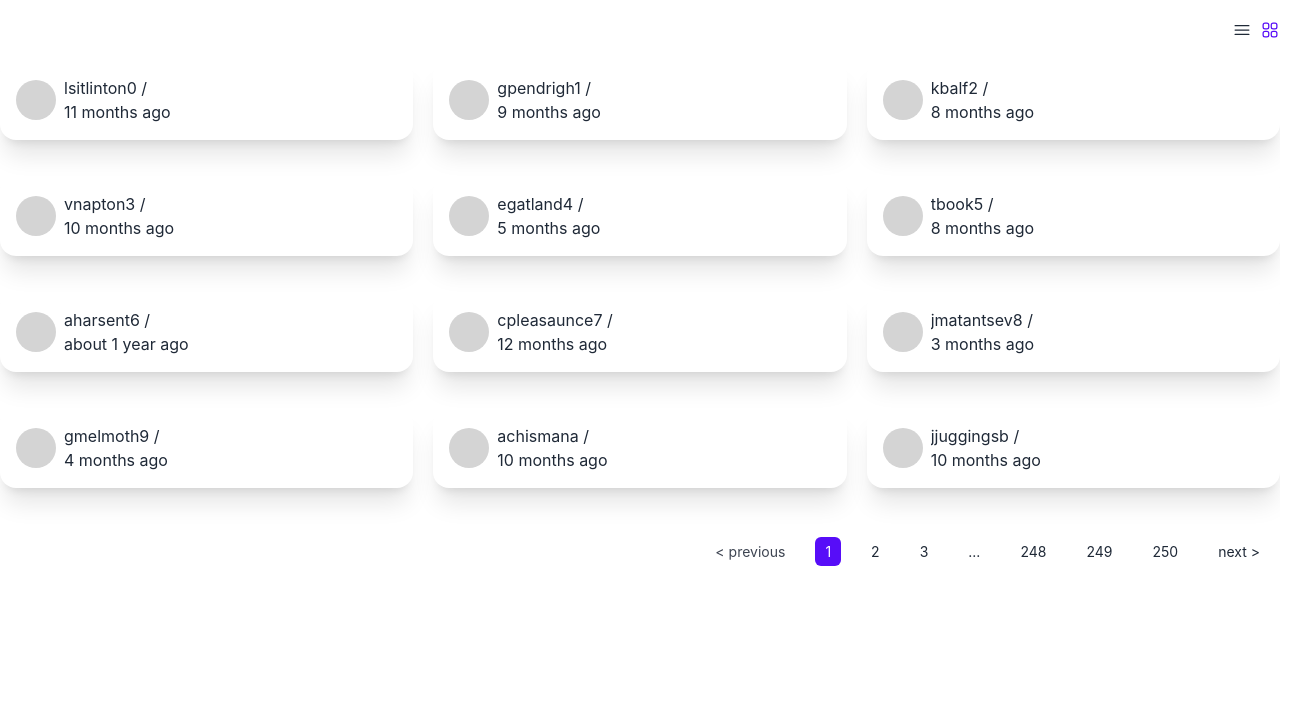
Gist View Component › clicking on the list icon changes the view to list
Click the icon with test id "list-icon": (1242, 30) [1232,20,1252,40]
(page scrolled)
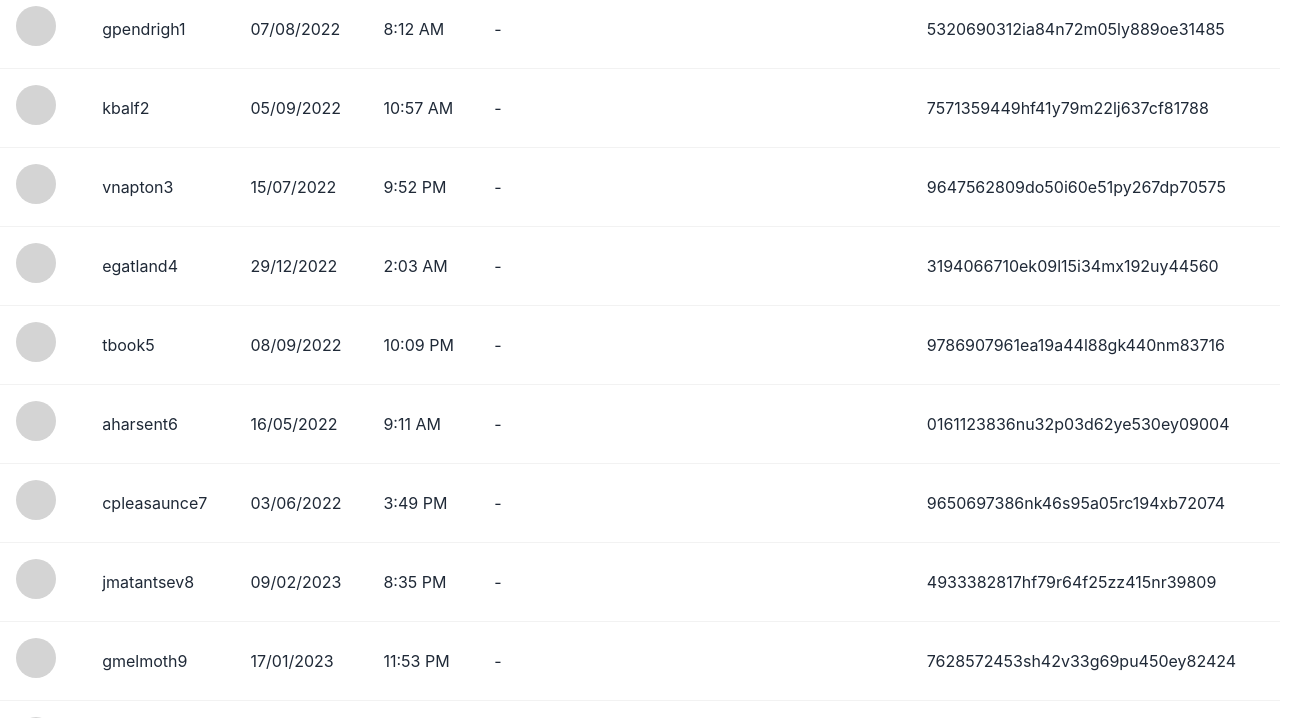
expect the element with test id "grid-view" is gone: met
